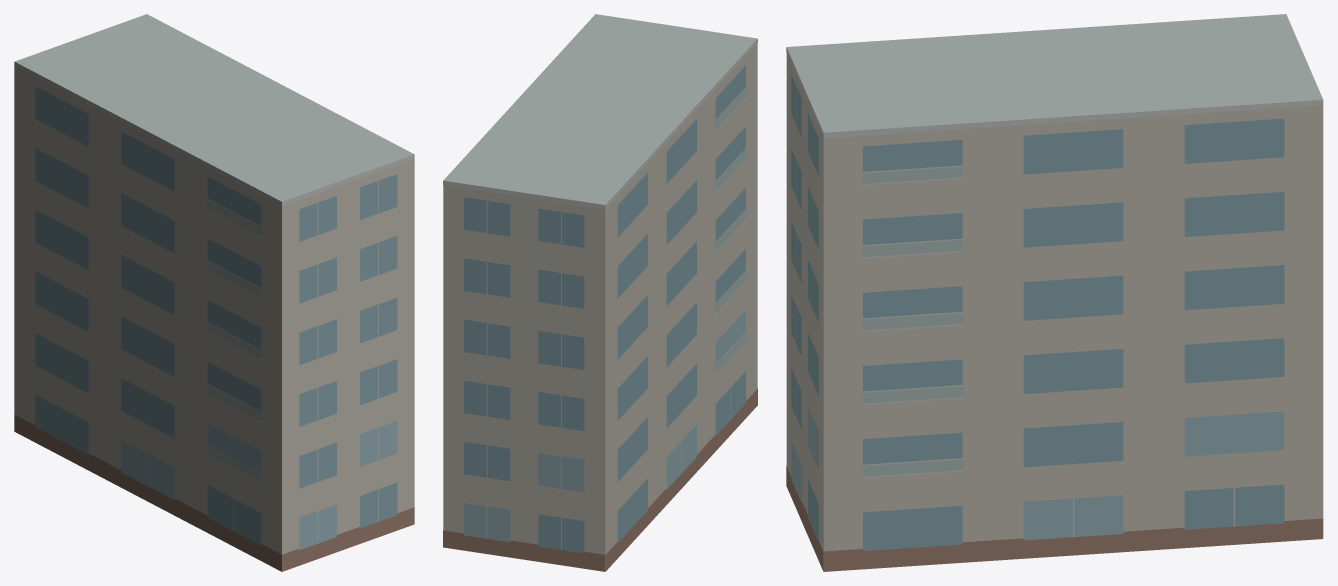
File: survey-upis-32747542.glb
3 renders of one model, left to right at view 1: azimuth 30°, elevation 25°; view 2: azimuth 150°, elevation 25°; view 3: azimuth 270°, elevation 25°, orthographic. The views are drawn at different scales.
Parts seen in each view (by area): view 1: survey-upis-32747542.tmp; view 2: survey-upis-32747542.tmp; view 3: survey-upis-32747542.tmp.
Boxes of the visible parts, left/top/right/bottom form: survey-upis-32747542.tmp: left=14, top=14, right=414, bottom=571; survey-upis-32747542.tmp: left=443, top=14, right=757, bottom=571; survey-upis-32747542.tmp: left=786, top=14, right=1323, bottom=571.
Size of the model in its own units: 11.2 by 19.3 by 21.39.
